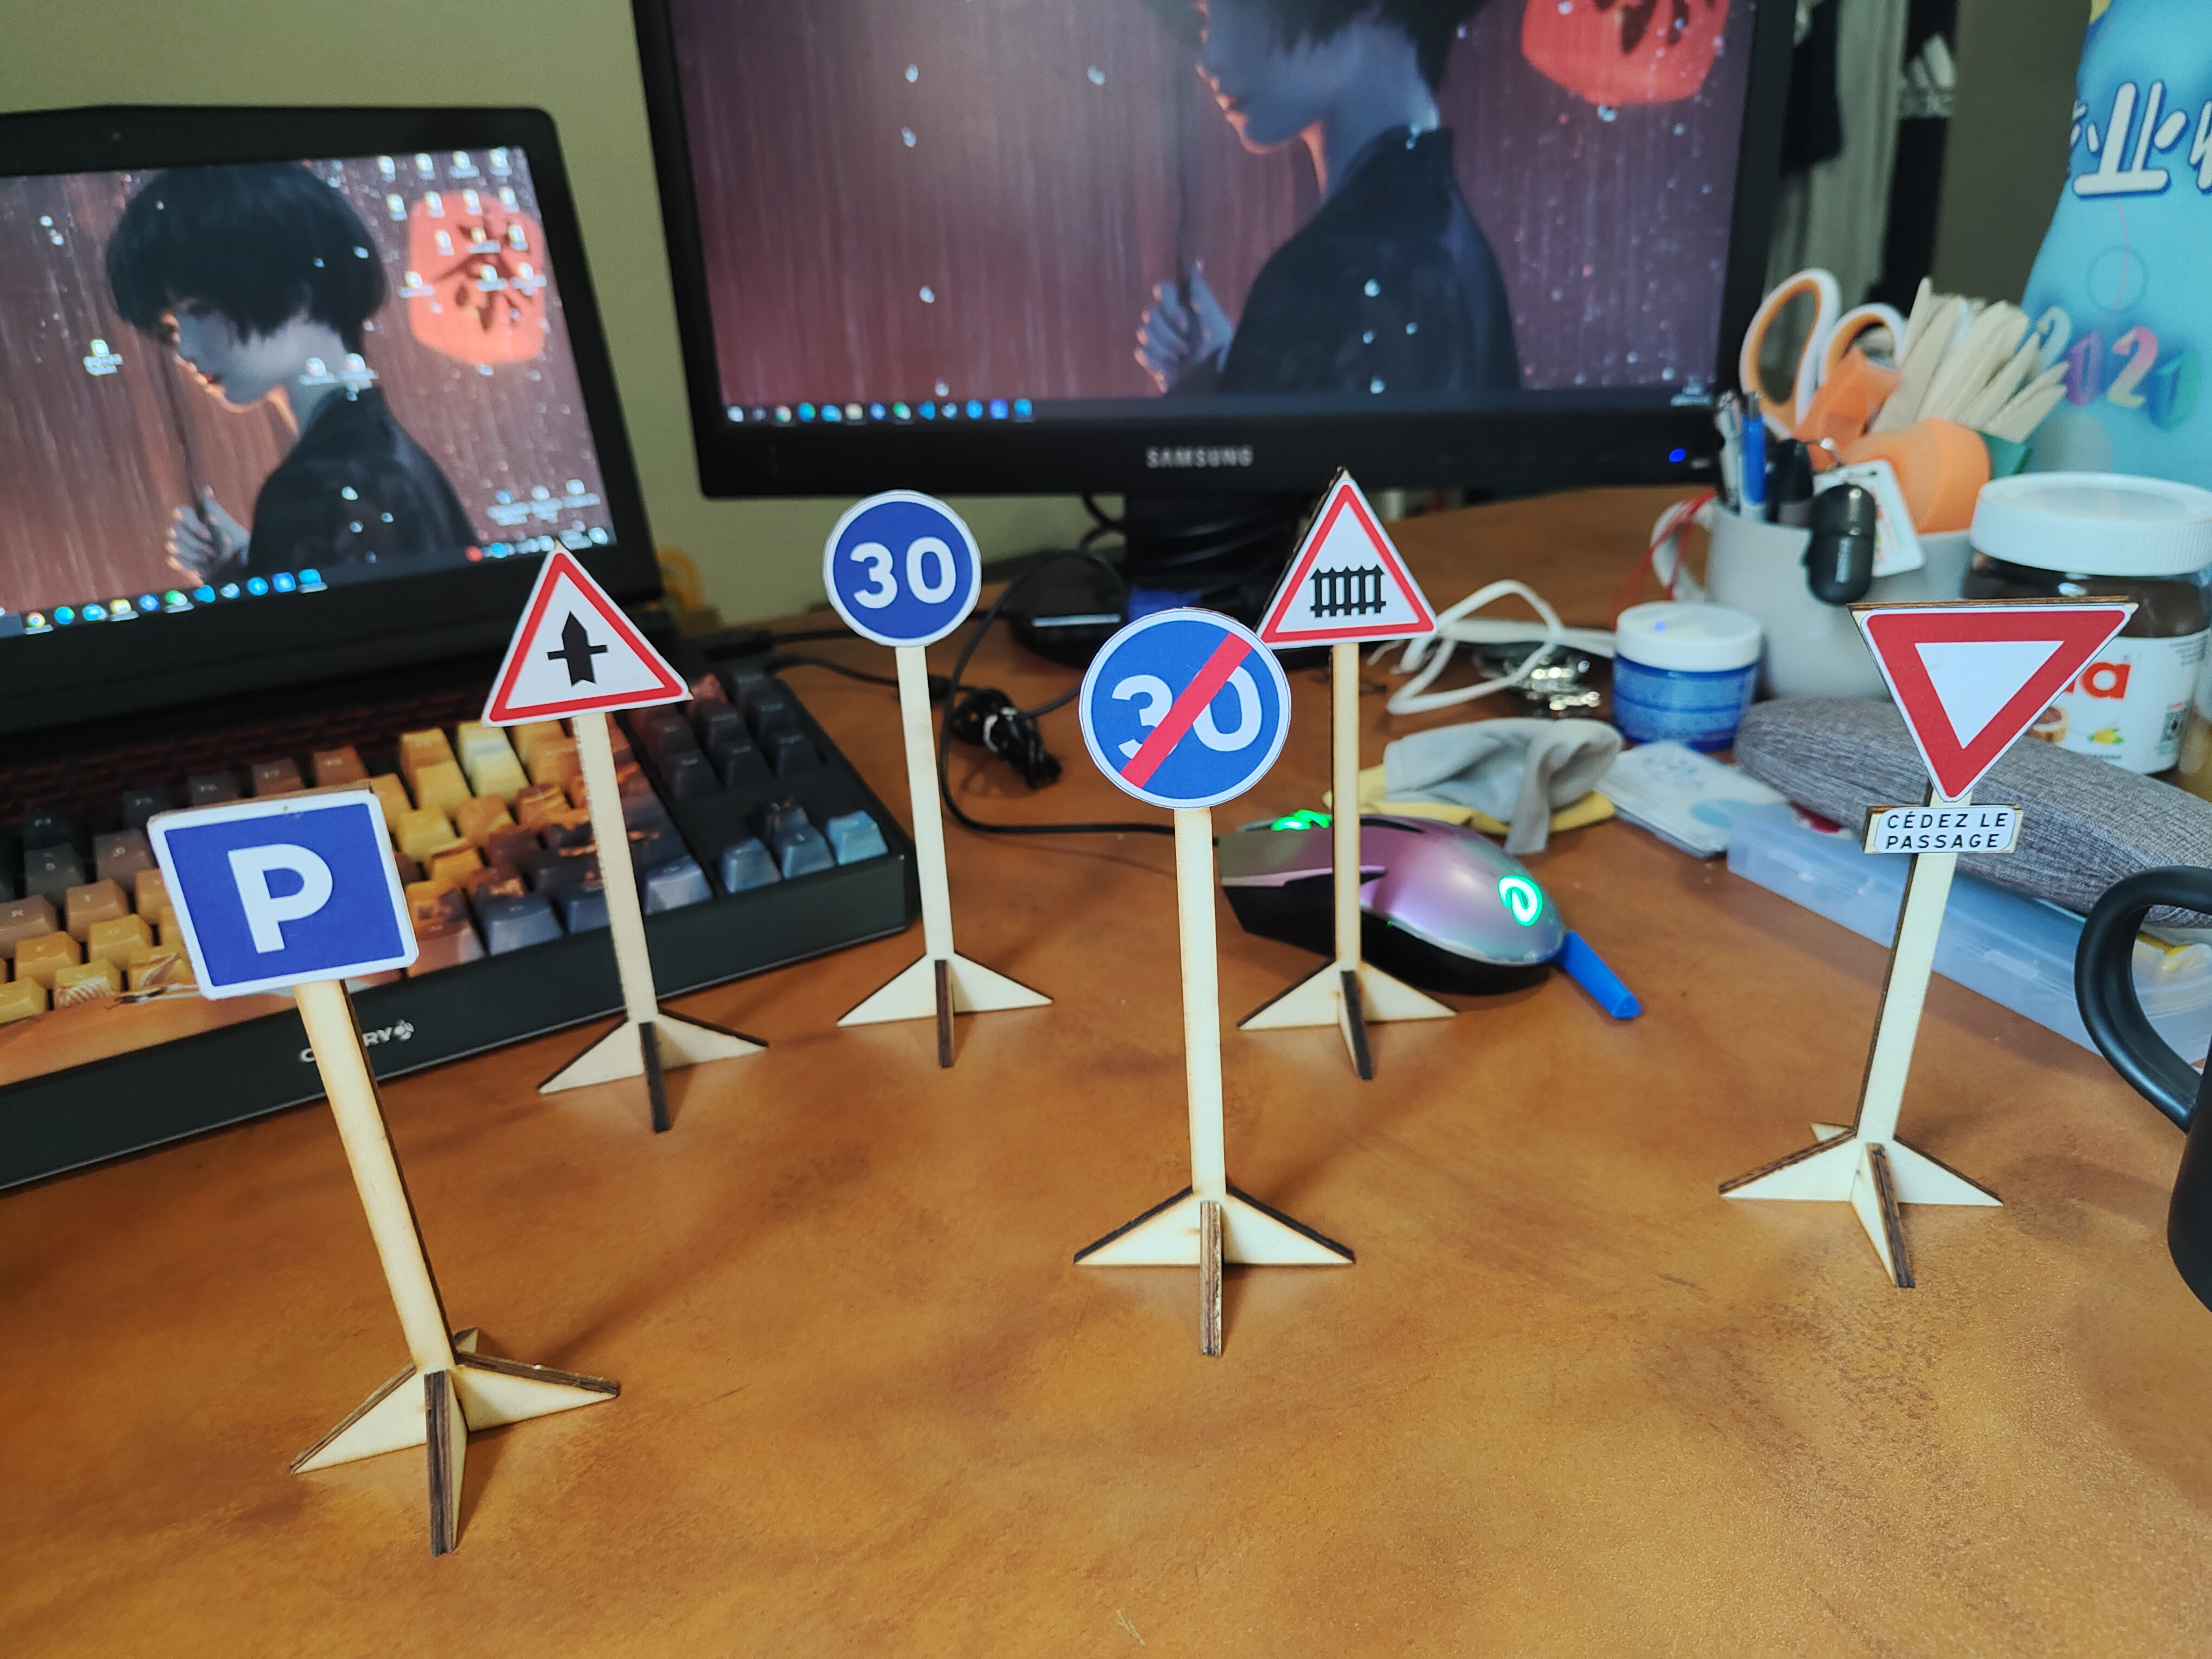P: (145, 784, 418, 979)
ban: (1076, 619, 1298, 803)
first: (484, 545, 688, 725)
second: (1858, 596, 2139, 863)
thirty: (826, 481, 979, 636)
train: (1254, 471, 1446, 645)
